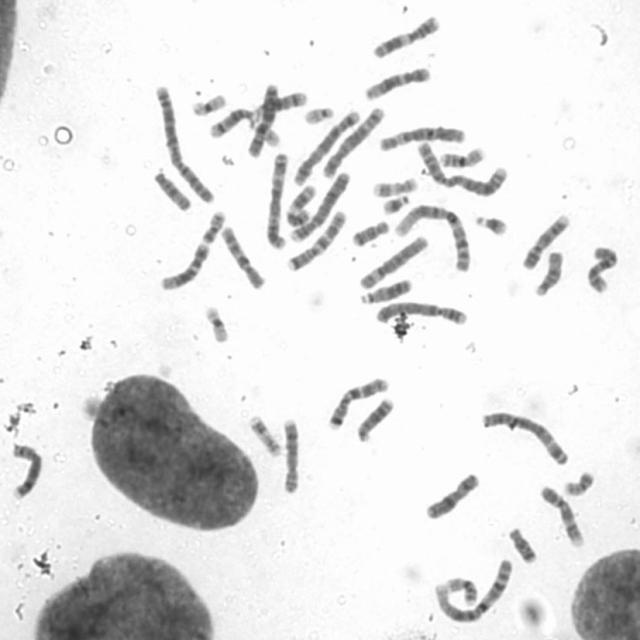A1: (391, 200, 474, 274), (432, 554, 514, 624)
A2: (151, 82, 216, 206), (415, 137, 509, 198)
A3: (478, 407, 570, 467), (262, 149, 290, 251)
B4: (286, 168, 352, 243), (369, 296, 468, 326)
B5: (290, 105, 362, 187), (319, 103, 386, 178)
C10: (218, 222, 266, 290), (583, 242, 620, 295)
C11: (369, 12, 442, 60), (283, 182, 317, 229)
C12: (361, 62, 434, 101), (158, 241, 212, 291)
C6: (357, 233, 430, 291), (376, 122, 466, 152)
C7: (284, 206, 349, 273), (325, 373, 391, 431)
C8: (8, 439, 45, 502), (280, 416, 300, 494)
C9: (518, 209, 572, 272), (536, 483, 586, 548)
D13: (353, 394, 396, 443), (357, 275, 413, 305)
D14: (206, 104, 259, 140), (252, 88, 308, 118)
D15: (151, 168, 193, 212), (531, 247, 565, 298)
E16: (437, 143, 488, 170), (442, 574, 478, 606)
E17: (245, 410, 283, 458), (370, 174, 419, 198)
E18: (505, 523, 539, 565), (348, 216, 391, 248)
F19: (201, 302, 231, 344), (189, 91, 227, 117)
F20: (561, 468, 596, 498), (199, 208, 226, 245)
G21: (471, 210, 510, 238), (380, 193, 410, 215)
G22: (247, 118, 280, 148), (300, 104, 336, 125)
X: (422, 468, 481, 522), (245, 81, 280, 159)
